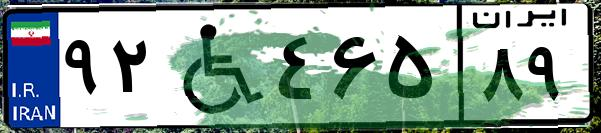2: (110, 28, 158, 98)
4: (270, 28, 330, 110)
5: (385, 28, 445, 110)
6: (330, 28, 385, 110)
8: (475, 38, 525, 113)
9: (57, 26, 110, 100), (525, 38, 570, 115)
ژ (معلولین و جانبازان): (158, 12, 270, 120)
